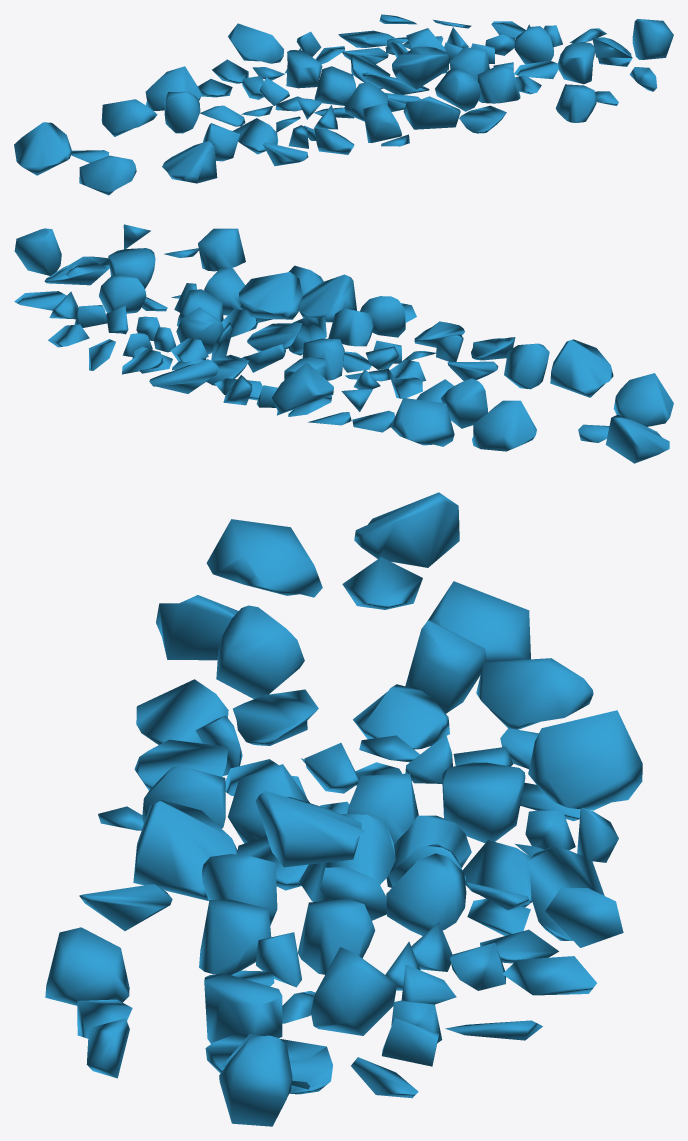
File: Scree_03_Lod2.fbx
3 renders of one model, top to bottom at view 1: azimuth 30°, elevation 25°; view 2: azimuth 150°, elevation 25°; view 3: azimuth 270°, elevation 25°, orthographic. The views are drawn at different scales.
Visible parts, largest first — view 1: Scree_03_Lod2; view 2: Scree_03_Lod2; view 3: Scree_03_Lod2.
Part boxes in pixels (x1,y1,x2,y2): Scree_03_Lod2: [14, 14, 673, 195]; Scree_03_Lod2: [14, 224, 673, 463]; Scree_03_Lod2: [45, 492, 642, 1126].
Bounding box in the file's own units: 2268 × 195 × 957.
